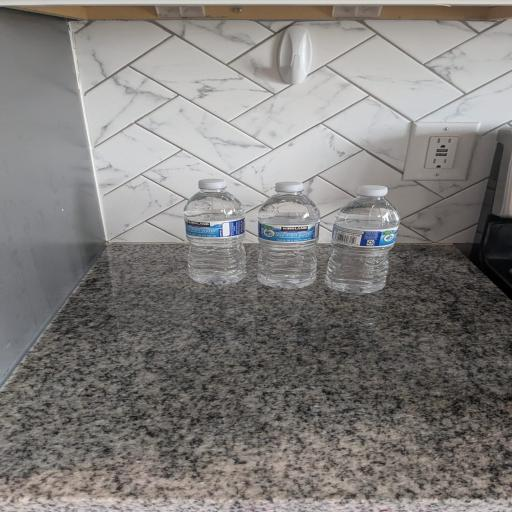waterbottle: (326, 186, 399, 293), (258, 182, 320, 288), (184, 179, 246, 284)
